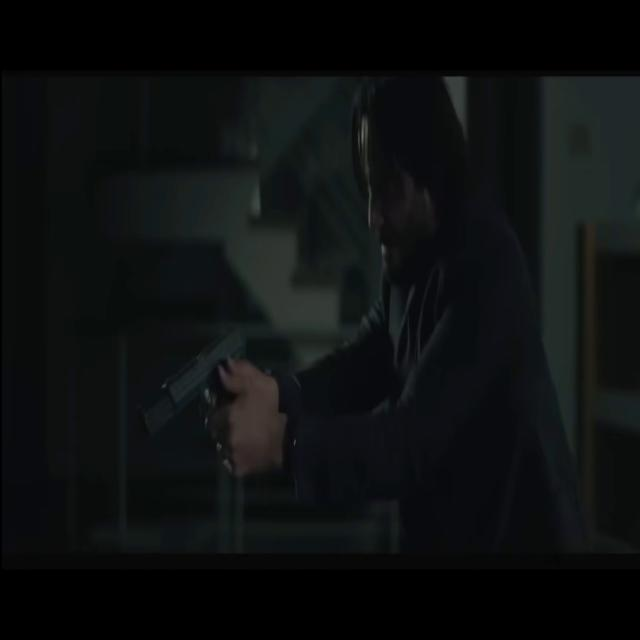weapons: (136, 302, 266, 492)
